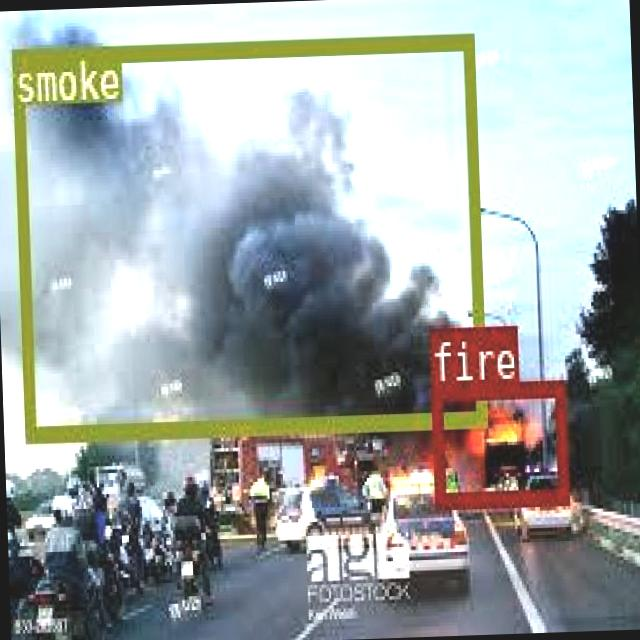fire: (430, 376, 567, 504)
smoke: (8, 29, 486, 440)
